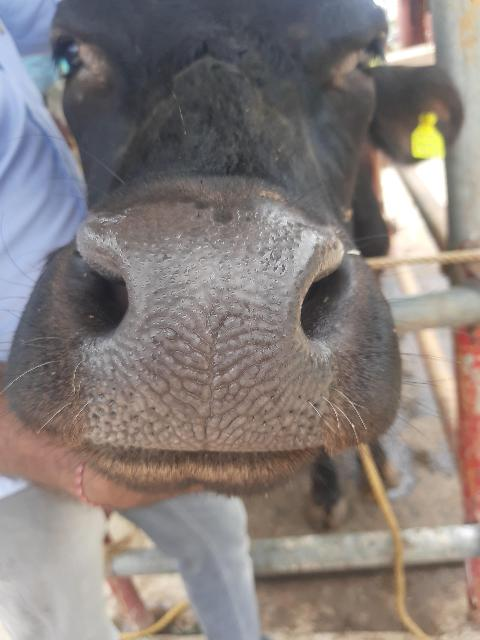Muzzle: (109, 214, 302, 450)
